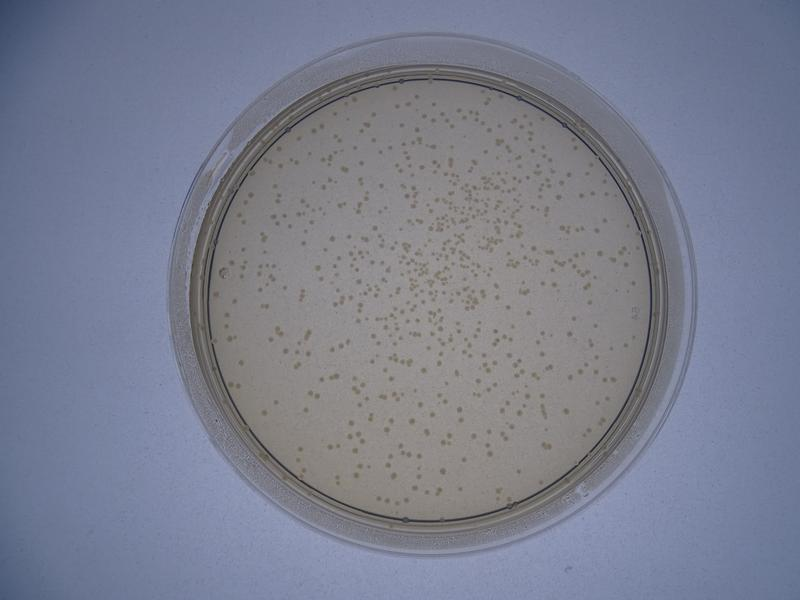colony: (323, 439, 336, 454), (557, 403, 572, 416), (427, 409, 441, 422), (436, 464, 450, 477), (503, 300, 516, 313), (568, 311, 580, 325), (522, 306, 536, 318), (326, 230, 338, 244), (453, 402, 468, 413), (406, 413, 419, 425), (413, 396, 426, 408), (564, 370, 576, 383), (381, 460, 394, 472), (367, 329, 379, 342), (380, 423, 392, 436), (469, 429, 480, 443), (369, 219, 380, 233), (235, 356, 247, 368), (594, 247, 606, 259), (345, 416, 357, 428), (301, 404, 312, 417), (264, 333, 276, 344), (564, 327, 575, 339), (584, 296, 596, 307), (378, 364, 390, 375), (535, 348, 547, 359), (270, 396, 283, 406), (513, 465, 524, 476), (349, 444, 360, 455), (417, 111, 429, 121), (575, 189, 587, 199), (566, 168, 576, 180), (484, 449, 496, 459), (357, 158, 368, 168), (481, 146, 491, 157), (297, 236, 308, 246), (313, 262, 324, 272), (429, 97, 439, 108), (258, 406, 269, 416), (606, 343, 617, 353), (280, 281, 289, 293), (591, 319, 600, 331), (369, 109, 379, 119), (599, 213, 609, 223), (592, 226, 602, 236), (418, 365, 428, 375), (376, 180, 387, 189), (392, 99, 401, 110), (396, 120, 406, 129), (413, 124, 422, 133), (351, 143, 359, 152)
